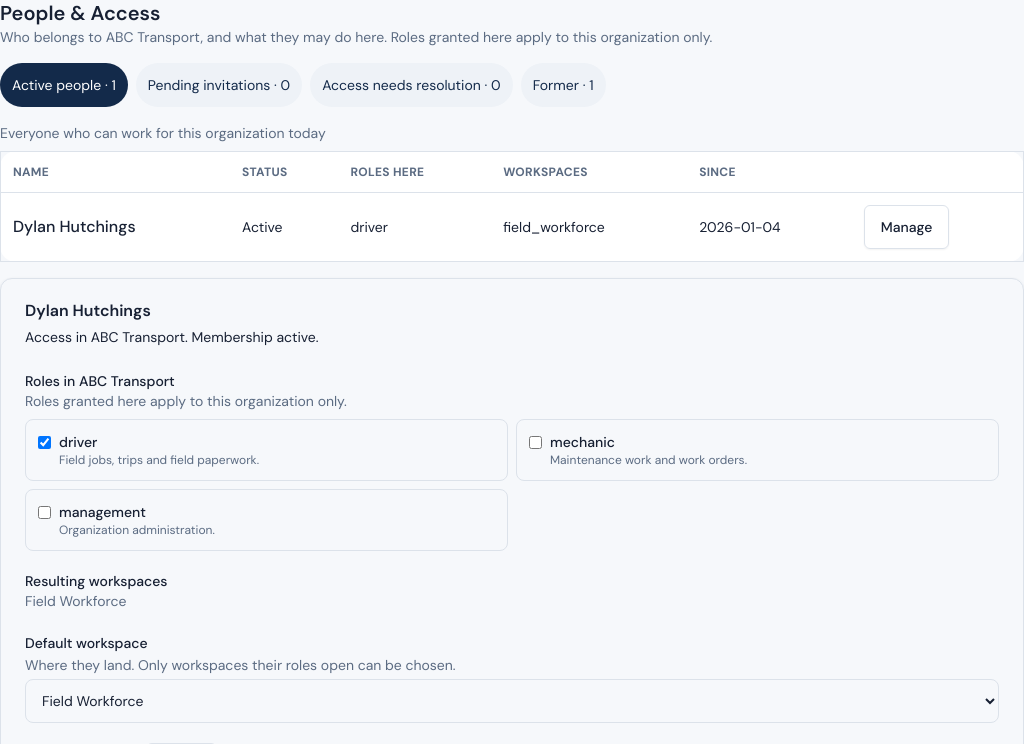
Test case: Person detail › keeps Save disabled until the selection actually differs
The width and height of the screenshot is (1024, 744).
Click the checkbox labelled "mechanic Maintenance work and work orders.": [536, 442] box [529,436,542,449]
(page scrolled)
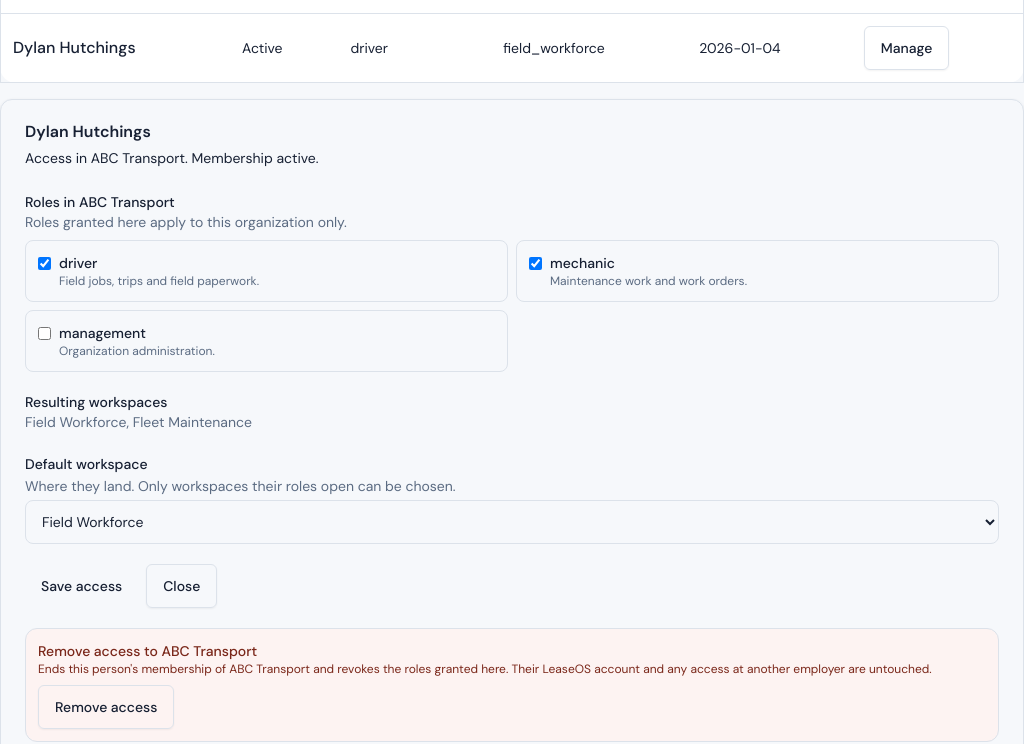
expect the button "Save access" is enabled: met, box [25,564,138,608]
